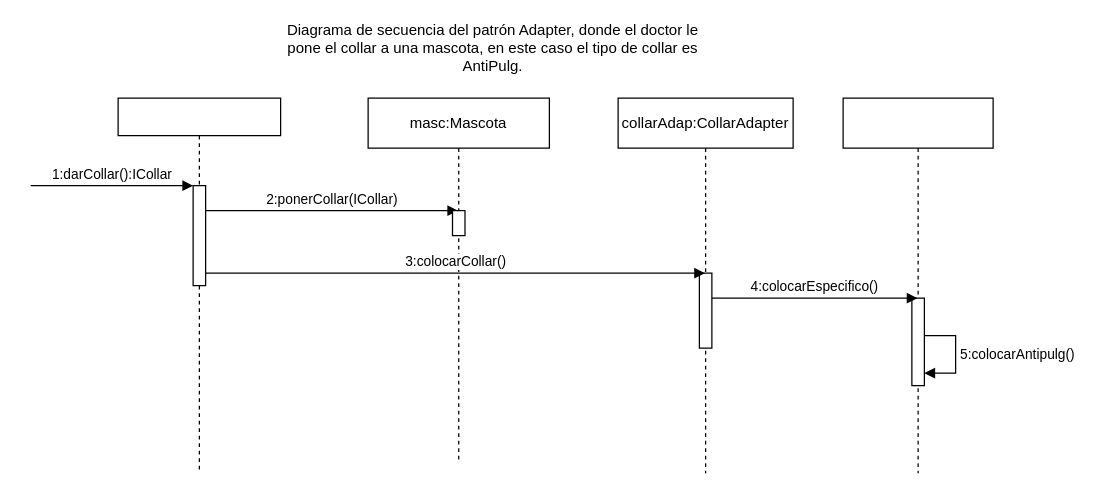
Some shapes in this 1098 by 495 pixel diagram are drawn without their labels. The box of each missing label's shape, as (x1, y1, x2, y2) in pixels:
antipulg:AntiPulg: (842, 97, 993, 473)
doc:Doctor: (117, 97, 281, 473)
